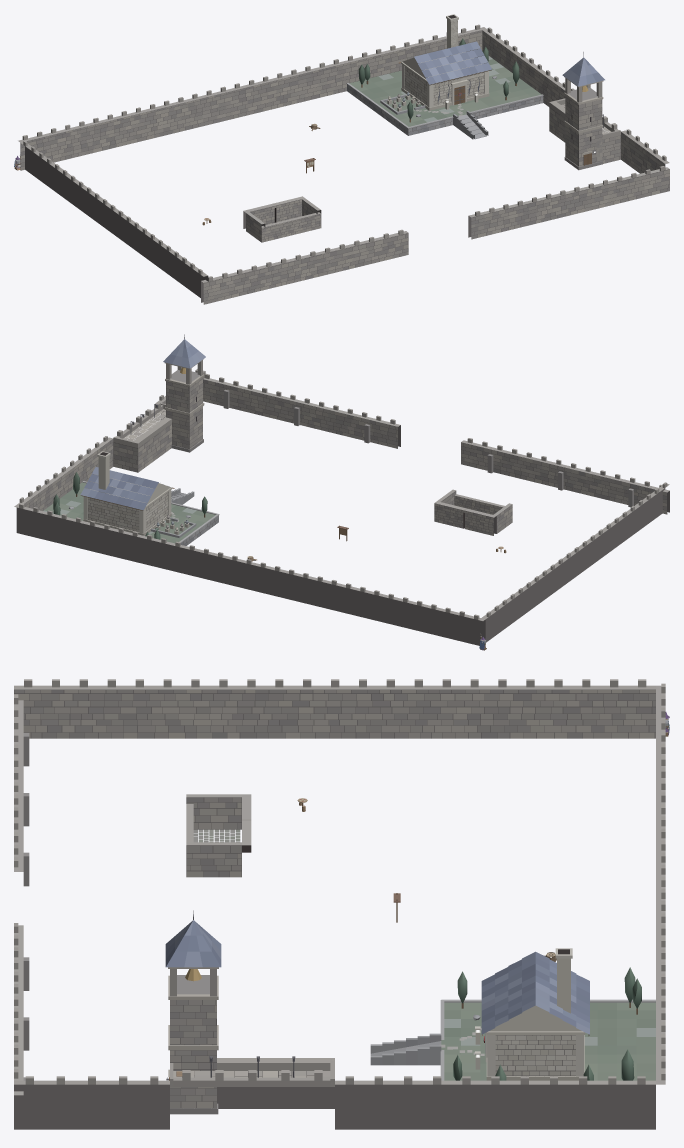
File: barrios_ligero.glb
3 views of the same model, one above another, from view 1: azimuth 30°, elevation 25°; view 2: azimuth 150°, elevation 25°; view 3: azimuth 270°, elevation 25° (orthographic). The views are drawn at different scales.
Parts seen in each view (by area): view 1: muro_muralla_n, suelo_colina, edif_muralla_so, edif_muralla_se, muro_muralla_o, edif_crematorio, edif_torre, muro_muralla_e, muro_velas, suelo_ronda, edif_velas_sur, muro_subida (+2 smaller); view 2: muro_muralla_n, edif_muralla_se, muro_muralla_o, edif_muralla_so, edif_crematorio, edif_torre, suelo_colina, muro_muralla_e, suelo_ronda, muro_velas, muro_ronda_pretil, edif_velas_sur (+1 smaller); view 3: muro_muralla_o, muro_muralla_e, edif_crematorio, suelo_colina, edif_torre, muro_velas, muro_muralla_n, muro_ronda_pretil, suelo_ronda, edif_muralla_so, edif_muralla_se, muro_subida.
Boxes of the visible parts, x1,y1,x2,y2 form: muro_muralla_n: (18, 24, 486, 170); suelo_colina: (346, 38, 543, 135); edif_muralla_so: (201, 229, 408, 304); edif_muralla_se: (468, 166, 669, 239); muro_muralla_o: (21, 140, 208, 297); edif_crematorio: (399, 14, 491, 110); edif_torre: (562, 52, 604, 170); muro_muralla_e: (482, 27, 669, 173); muro_velas: (243, 196, 321, 242); suelo_ronda: (549, 104, 620, 163); edif_velas_sur: (261, 212, 321, 242); muro_subida: (453, 111, 488, 139); muro_muralla_n: (14, 503, 485, 645); edif_muralla_se: (203, 373, 400, 448); muro_muralla_o: (481, 482, 669, 642); edif_muralla_so: (461, 438, 669, 514); edif_crematorio: (80, 451, 174, 535); edif_torre: (163, 334, 205, 452); suelo_colina: (43, 472, 219, 545); muro_muralla_e: (17, 369, 205, 510); suelo_ronda: (113, 409, 171, 472); muro_velas: (434, 489, 512, 535); muro_ronda_pretil: (113, 402, 171, 447); edif_velas_sur: (454, 494, 504, 514); muro_muralla_o: (14, 679, 655, 738); muro_muralla_e: (14, 1076, 655, 1129); edif_crematorio: (475, 948, 589, 1080); suelo_colina: (440, 967, 655, 1080); edif_torre: (165, 910, 221, 1114); muro_velas: (186, 794, 251, 877); muro_muralla_n: (656, 683, 665, 1084); muro_ronda_pretil: (170, 1056, 334, 1086); suelo_ronda: (173, 1071, 334, 1108); edif_muralla_so: (14, 694, 29, 886); edif_muralla_se: (14, 923, 29, 1095); muro_subida: (370, 1033, 441, 1065).
Size of the model in its own units: 80.46 by 18.19 by 55.59.
